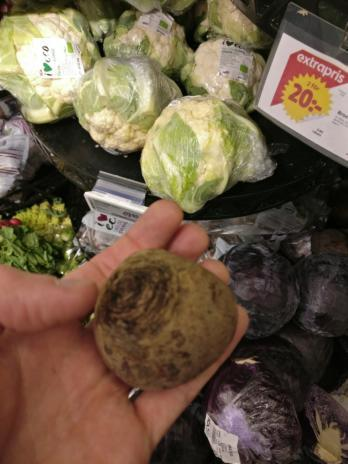beetroot: (86, 248, 242, 394)
